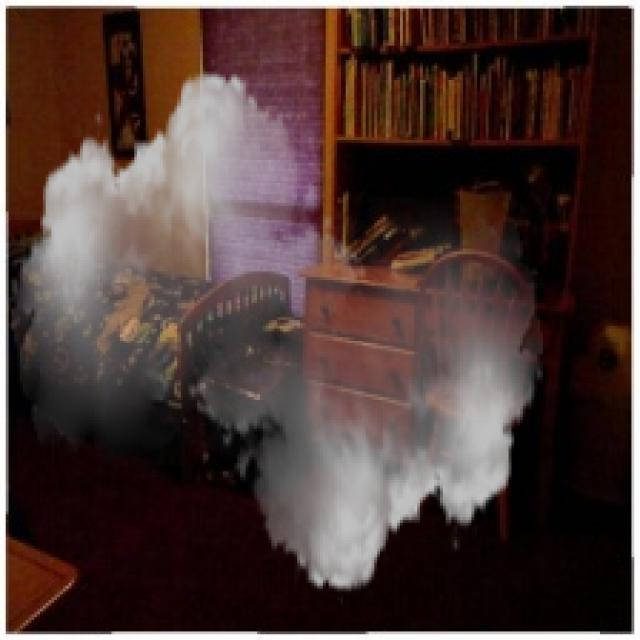smoke: (11, 54, 543, 609)
